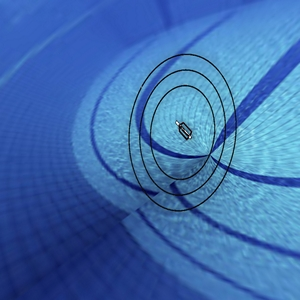circle: (112, 26, 254, 223)
submarine: (161, 113, 196, 145)
